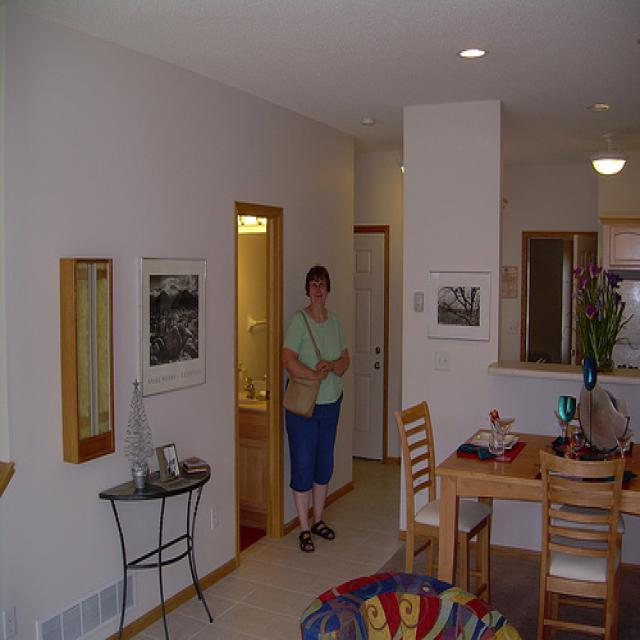chair: (393, 401, 493, 604), (539, 450, 627, 639)
diningtable: (436, 428, 640, 586)
person: (283, 264, 351, 554)
